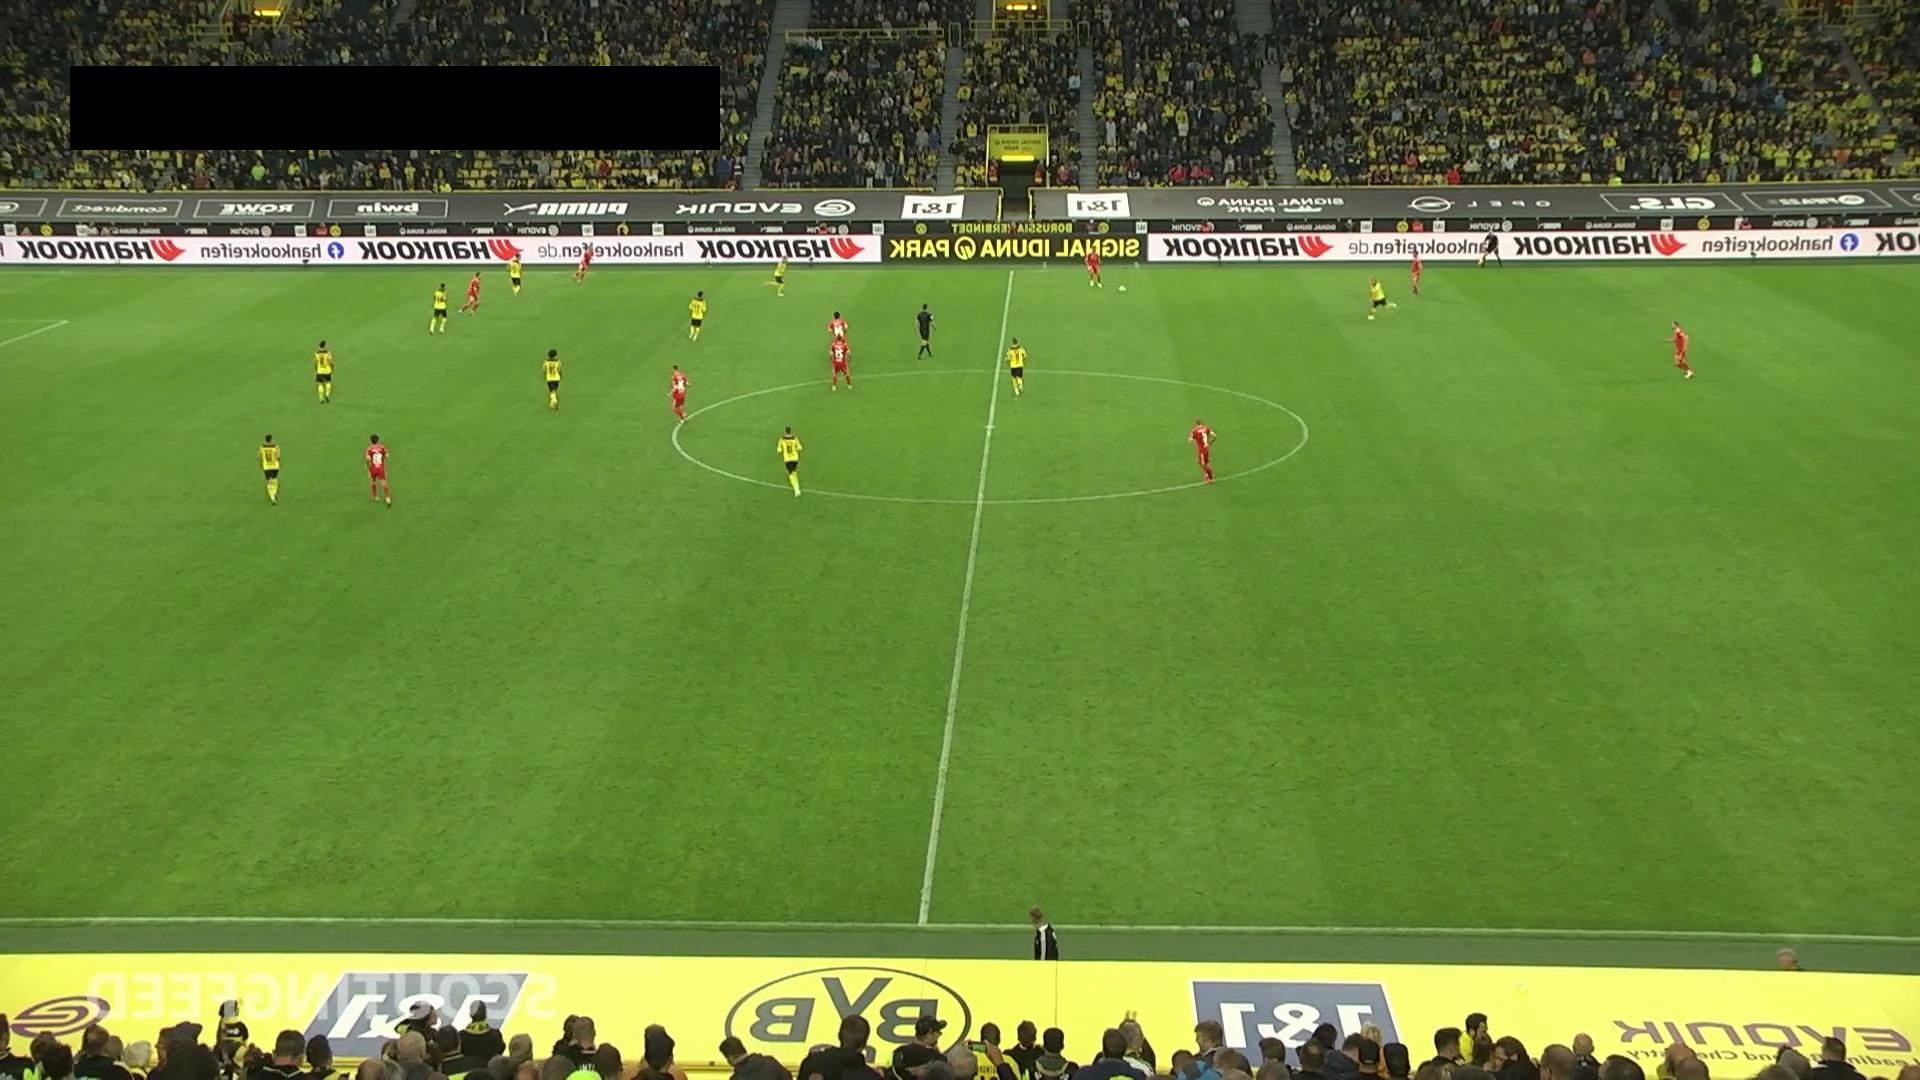ball: (1117, 285, 1127, 296)
player: (364, 433, 392, 507), (776, 425, 804, 498), (1188, 417, 1217, 484), (257, 433, 281, 505), (1669, 320, 1696, 378), (1367, 276, 1399, 323), (312, 339, 335, 404), (829, 333, 854, 392), (668, 364, 690, 426), (542, 348, 563, 411), (1006, 337, 1027, 396), (429, 281, 449, 335), (687, 290, 707, 342), (459, 271, 482, 315), (766, 258, 788, 297), (573, 243, 594, 283), (1085, 248, 1103, 288), (507, 252, 523, 296), (827, 310, 848, 341), (1409, 252, 1422, 295)
referee: (915, 303, 936, 360), (1477, 229, 1503, 268)
